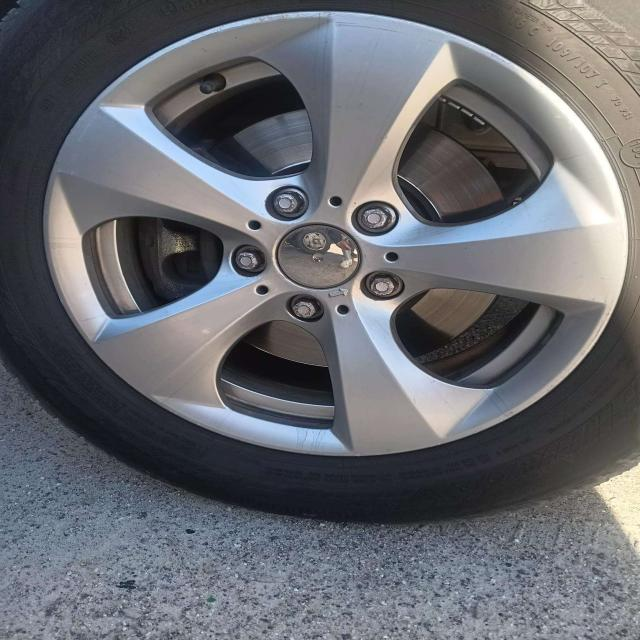jante: (43, 12, 632, 457)
parafuso: (346, 197, 406, 240), (260, 182, 313, 224), (222, 239, 272, 283), (359, 268, 409, 306), (280, 292, 331, 326)
roda: (0, 0, 640, 523)
